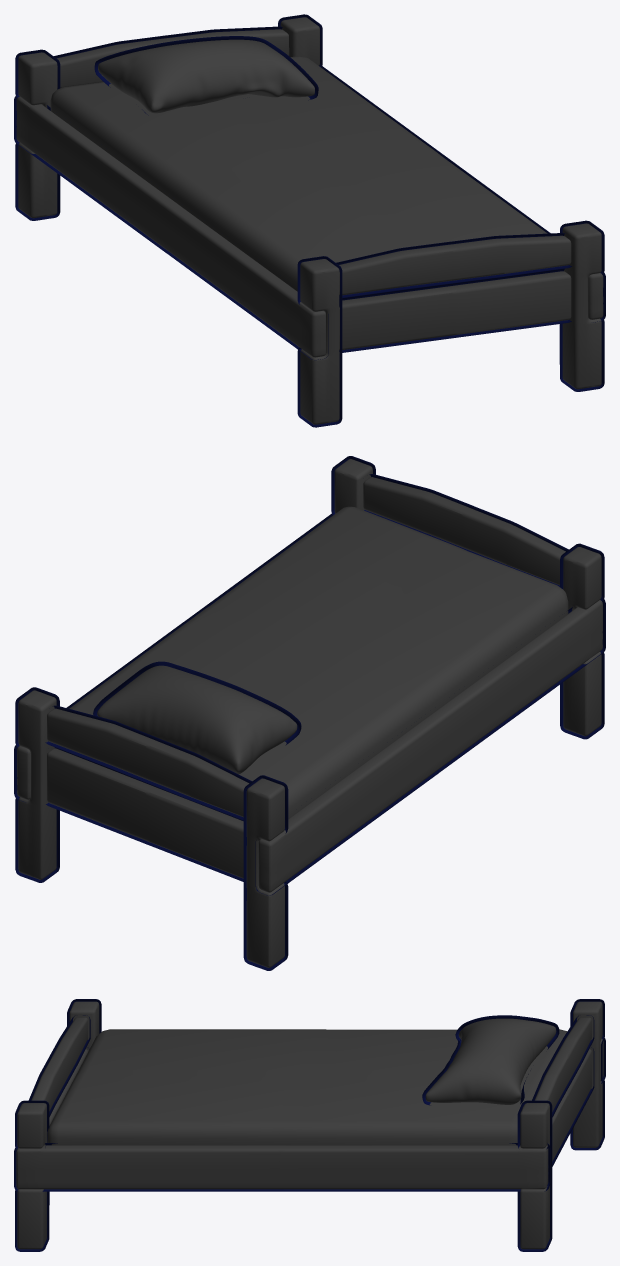
3 views of the same model, one above another, from view 1: azimuth 30°, elevation 25°; view 2: azimuth 150°, elevation 25°; view 3: azimuth 270°, elevation 25° (orthographic). The views are drawn at different scales.
Parts seen in each view (by area): view 1: Bed Frame.001, Matress.001, Basic Pillow.002; view 2: Bed Frame.001, Matress.001, Basic Pillow.002; view 3: Matress.001, Bed Frame.001, Basic Pillow.002.
Part boxes in pixels (x1,y1,x2,y2): Bed Frame.001: (14,14,605,427); Matress.001: (50,56,547,291); Basic Pillow.002: (94,36,318,115); Bed Frame.001: (14,456,605,970); Matress.001: (69,506,568,818); Basic Pillow.002: (93,661,301,774); Matress.001: (47,1029,567,1145); Bed Frame.001: (14,999,605,1251); Basic Pillow.002: (422,1015,559,1105).
Bounding box in the file's own units: 1.09 × 0.7267 × 2.37.
